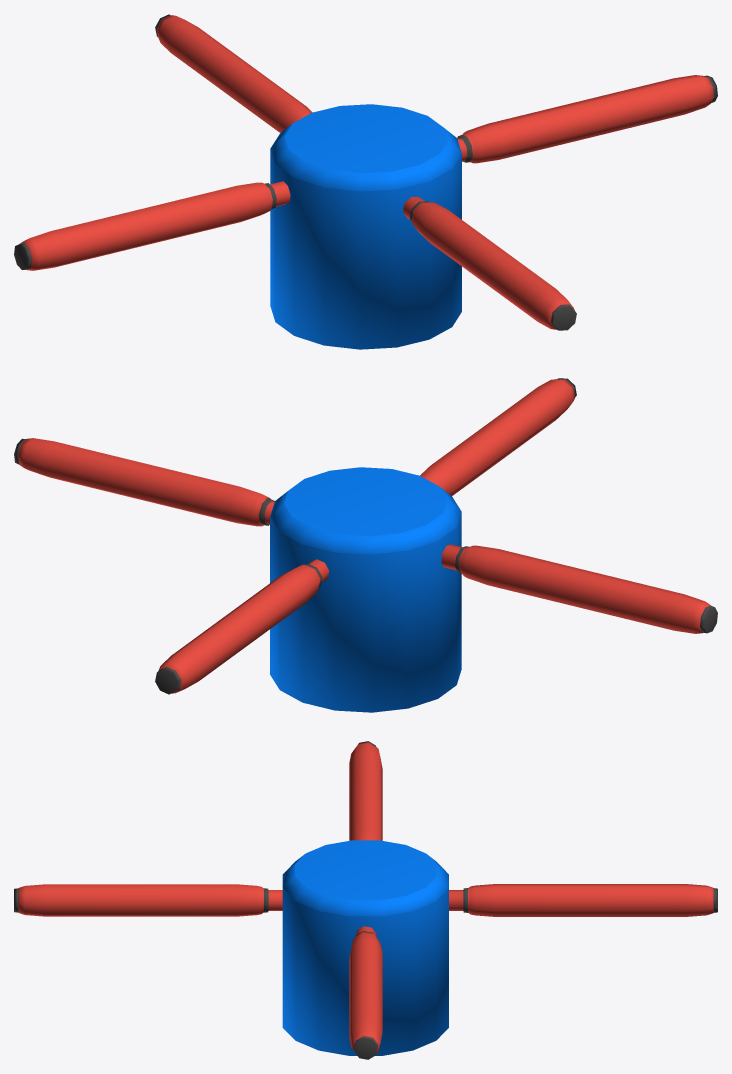
The picture shows the model from 3 angles, top to bottom: view 1: azimuth 30°, elevation 25°; view 2: azimuth 150°, elevation 25°; view 3: azimuth 270°, elevation 25°; orthographic projection. The views are drawn at different scales.
Parts seen in each view (by area): view 1: organ11; view 2: organ11; view 3: organ11.
Boxes of the visible parts, x1=… form: organ11: x1=14, y1=14, x2=717, y2=349; organ11: x1=14, y1=378, x2=717, y2=712; organ11: x1=14, y1=741, x2=717, y2=1059.
Size of the model in its own units: 331 by 78.05 by 331.
